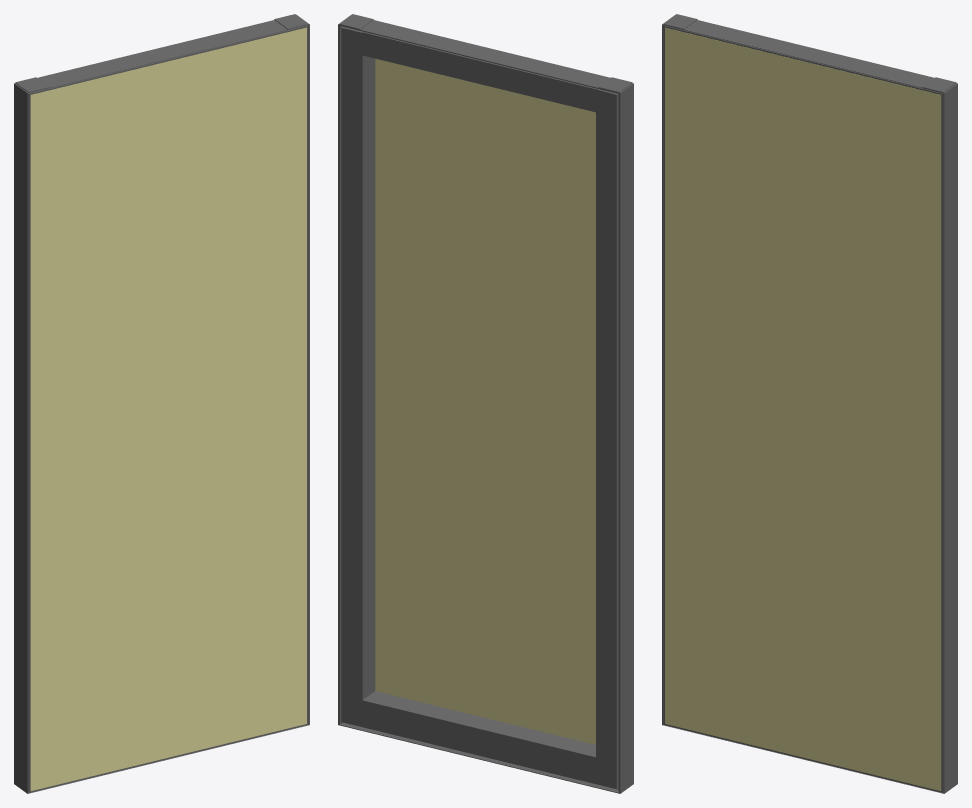
File: Header Half Panel.glb
The picture shows the model from 3 angles, left to right: view 1: azimuth 30°, elevation 25°; view 2: azimuth 150°, elevation 25°; view 3: azimuth 330°, elevation 25°; orthographic projection.
Parts seen in each view (by area): view 1: Standard 19.013; view 2: Standard 19.013; view 3: Standard 19.013.
Part boxes in pixels (<box>): Standard 19.013: <box>14,14,309,793</box>; Standard 19.013: <box>338,14,633,793</box>; Standard 19.013: <box>662,14,957,793</box>.
Bounding box in the file's own units: 0.494 × 1.17 × 0.0413.
